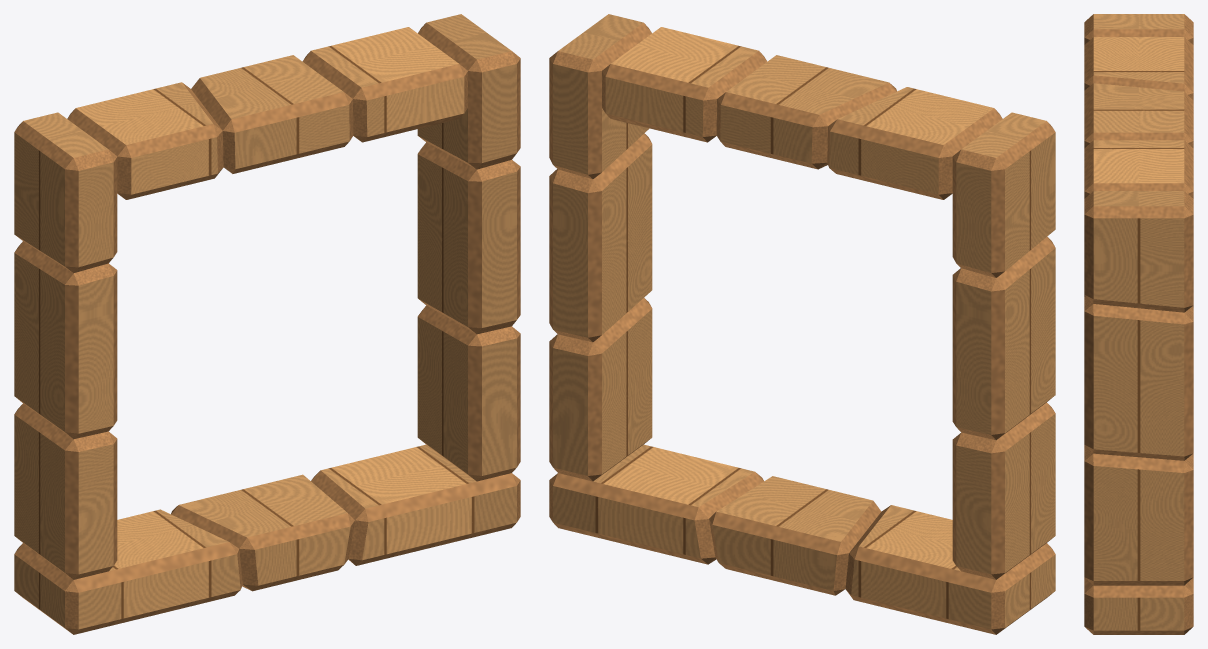
Rendered from Kit_Wood_WindowFrame_Fractured.fbx.
3 views of the same model, side by side, from view 1: azimuth 30°, elevation 25°; view 2: azimuth 150°, elevation 25°; view 3: azimuth 270°, elevation 25° (orthographic). The views are drawn at different scales.
Visible parts, largest first — view 1: Kit_Wood_WindowFrame_frag_02, Kit_Wood_WindowFrame_frag_05, Kit_Wood_WindowFrame_frag_10, Kit_Wood_WindowFrame_frag_12, Kit_Wood_WindowFrame_frag_04, Kit_Wood_WindowFrame_frag_01, Kit_Wood_WindowFrame_frag_03, Kit_Wood_WindowFrame_frag_08, Kit_Wood_WindowFrame_frag_11, Kit_Wood_WindowFrame_frag_09, Kit_Wood_WindowFrame_frag_07, Kit_Wood_WindowFrame_frag_06; view 2: Kit_Wood_WindowFrame_frag_05, Kit_Wood_WindowFrame_frag_02, Kit_Wood_WindowFrame_frag_10, Kit_Wood_WindowFrame_frag_12, Kit_Wood_WindowFrame_frag_04, Kit_Wood_WindowFrame_frag_01, Kit_Wood_WindowFrame_frag_03, Kit_Wood_WindowFrame_frag_11, Kit_Wood_WindowFrame_frag_07, Kit_Wood_WindowFrame_frag_08, Kit_Wood_WindowFrame_frag_09, Kit_Wood_WindowFrame_frag_06; view 3: Kit_Wood_WindowFrame_frag_05, Kit_Wood_WindowFrame_frag_04, Kit_Wood_WindowFrame_frag_06, Kit_Wood_WindowFrame_frag_08, Kit_Wood_WindowFrame_frag_09, Kit_Wood_WindowFrame_frag_07, Kit_Wood_WindowFrame_frag_12, Kit_Wood_WindowFrame_frag_03.
Part boxes in pixels (x1,y1,x2,y2): Kit_Wood_WindowFrame_frag_02: (14, 241, 117, 439); Kit_Wood_WindowFrame_frag_05: (417, 142, 520, 334); Kit_Wood_WindowFrame_frag_10: (14, 509, 242, 634); Kit_Wood_WindowFrame_frag_12: (311, 444, 520, 565); Kit_Wood_WindowFrame_frag_04: (417, 305, 520, 481); Kit_Wood_WindowFrame_frag_01: (14, 403, 117, 579); Kit_Wood_WindowFrame_frag_03: (14, 112, 117, 273); Kit_Wood_WindowFrame_frag_08: (191, 55, 353, 173); Kit_Wood_WindowFrame_frag_11: (171, 474, 354, 591); Kit_Wood_WindowFrame_frag_09: (302, 27, 467, 142); Kit_Wood_WindowFrame_frag_07: (67, 82, 223, 199); Kit_Wood_WindowFrame_frag_06: (417, 14, 520, 169); Kit_Wood_WindowFrame_frag_05: (549, 133, 652, 342); Kit_Wood_WindowFrame_frag_02: (952, 236, 1055, 440); Kit_Wood_WindowFrame_frag_10: (845, 505, 1055, 634); Kit_Wood_WindowFrame_frag_12: (549, 444, 763, 564); Kit_Wood_WindowFrame_frag_04: (549, 298, 652, 481); Kit_Wood_WindowFrame_frag_01: (952, 402, 1055, 579); Kit_Wood_WindowFrame_frag_03: (952, 112, 1055, 277); Kit_Wood_WindowFrame_frag_11: (709, 476, 881, 595); Kit_Wood_WindowFrame_frag_07: (827, 87, 1002, 199); Kit_Wood_WindowFrame_frag_08: (716, 55, 896, 169); Kit_Wood_WindowFrame_frag_09: (602, 27, 767, 142); Kit_Wood_WindowFrame_frag_06: (549, 14, 651, 179); Kit_Wood_WindowFrame_frag_05: (1084, 296, 1193, 460); Kit_Wood_WindowFrame_frag_04: (1084, 445, 1193, 585); Kit_Wood_WindowFrame_frag_06: (1084, 191, 1193, 312); Kit_Wood_WindowFrame_frag_08: (1084, 83, 1193, 148); Kit_Wood_WindowFrame_frag_09: (1084, 140, 1193, 198); Kit_Wood_WindowFrame_frag_07: (1084, 37, 1193, 100); Kit_Wood_WindowFrame_frag_12: (1084, 577, 1193, 634); Kit_Wood_WindowFrame_frag_03: (1084, 14, 1193, 44).
Size of what is drawn, in the model's own units: 1.3 by 1.3 by 0.3.
Materials: 2 (2 with a texture image).
